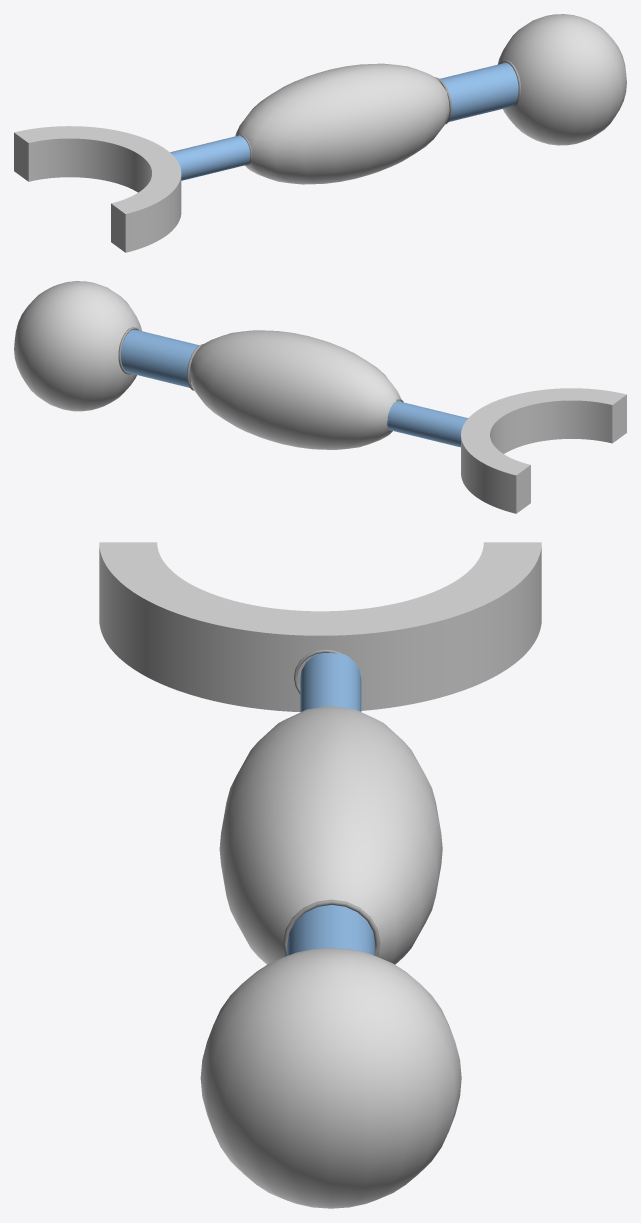
Rendered from DetaRightArm.fbx.
3 views of the same model, one above another, from view 1: azimuth 30°, elevation 25°; view 2: azimuth 150°, elevation 25°; view 3: azimuth 270°, elevation 25° (orthographic). The views are drawn at different scales.
Parts seen in each view (by area): view 1: DetaRightArm; view 2: DetaRightArm; view 3: DetaRightArm.
Part boxes in pixels (<box>): DetaRightArm: <box>14,14,626,252</box>; DetaRightArm: <box>14,281,626,513</box>; DetaRightArm: <box>99,542,541,1208</box>.
Bounding box in the file's own units: 1.46 × 0.3031 × 0.5134.
